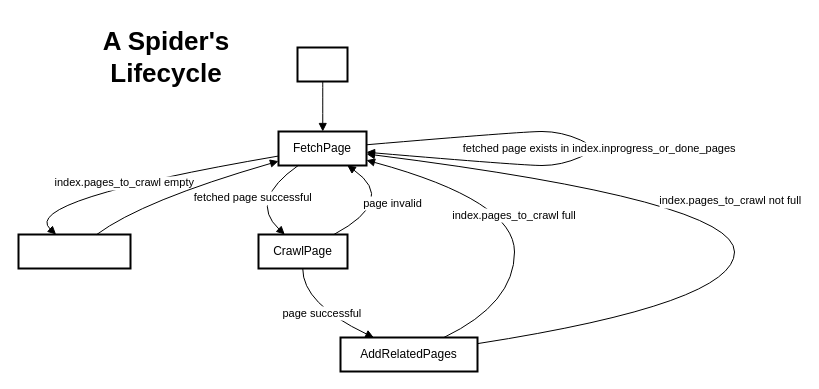
This 819x389 diagram has some shape labels left out. The centre of each missing label's shape, as x and y in pixels:
"Start" belongs at (x=322, y=64).
"WaitForFinish" belongs at (x=74, y=251).
